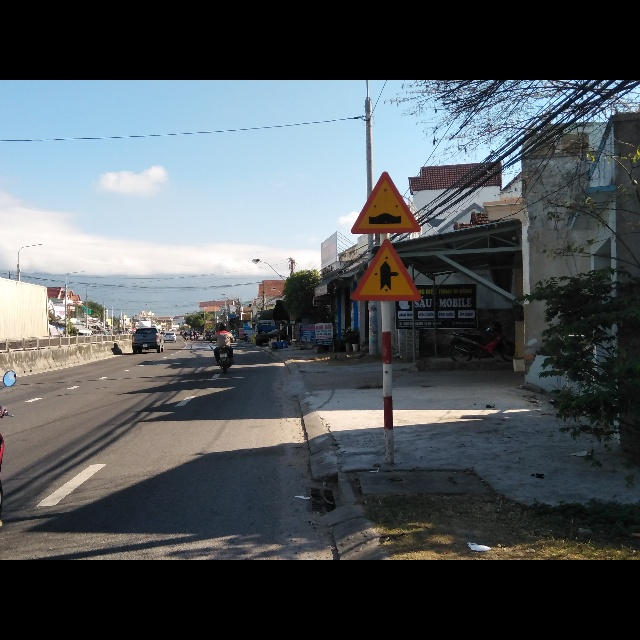Giao nhau với đường không ưu tiên: (350, 238, 425, 301)
Đường không bằng phẳng: (350, 169, 420, 235)
